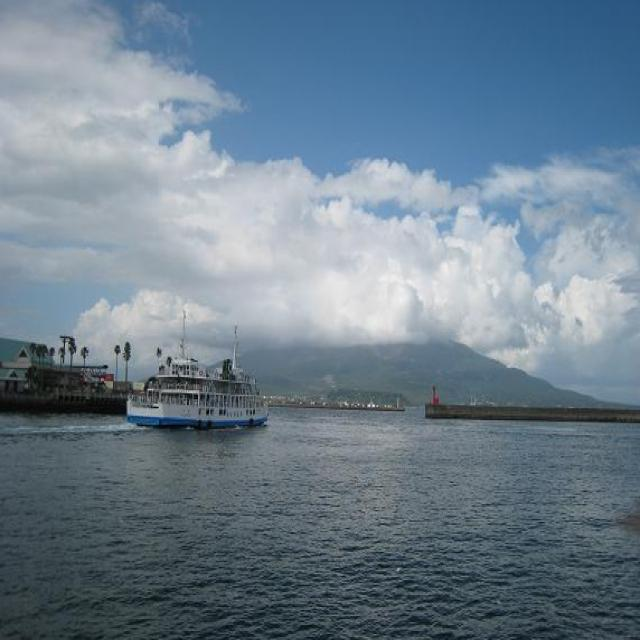passenger ship: (111, 324, 262, 438)
